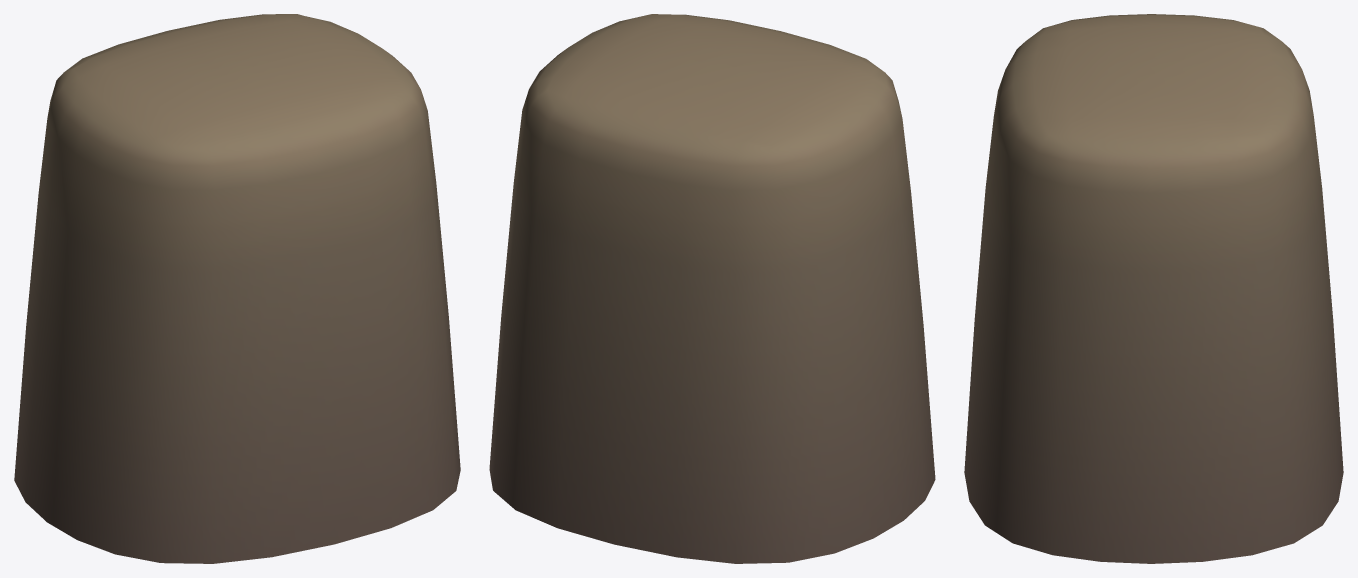
The model's file is mountain_big.fbx.
The picture shows the model from 3 angles, left to right: view 1: azimuth 30°, elevation 25°; view 2: azimuth 150°, elevation 25°; view 3: azimuth 270°, elevation 25°; orthographic projection.
Parts seen in each view (by area): view 1: Cube.007; view 2: Cube.007; view 3: Cube.007.
Part boxes in pixels (x1=…): Cube.007: x1=14, y1=14, x2=460, y2=563; Cube.007: x1=489, y1=14, x2=935, y2=563; Cube.007: x1=964, y1=14, x2=1343, y2=563.
Bounding box in the file's own units: 293 × 300 × 254.
